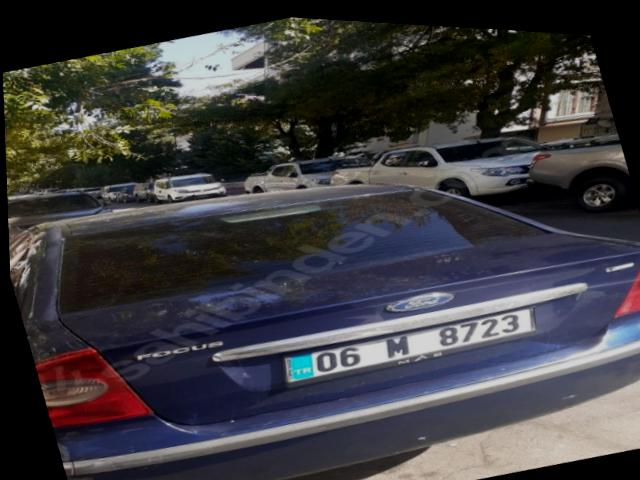plaka: (284, 308, 535, 383)
